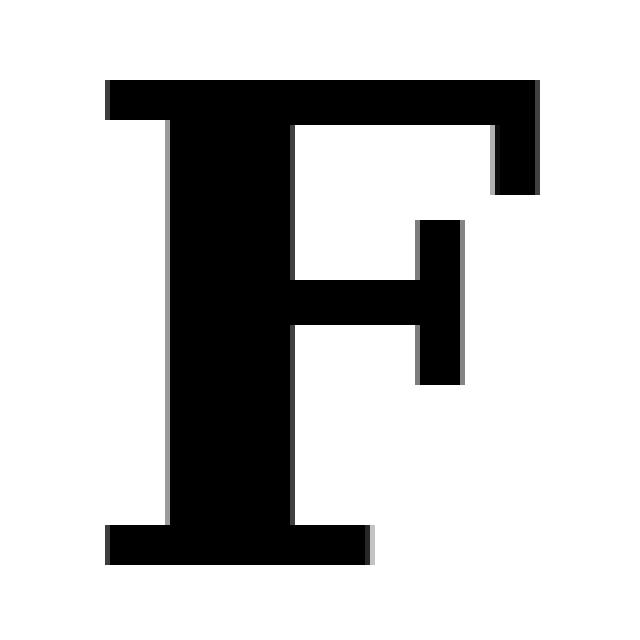F: (0, 48, 450, 543)
